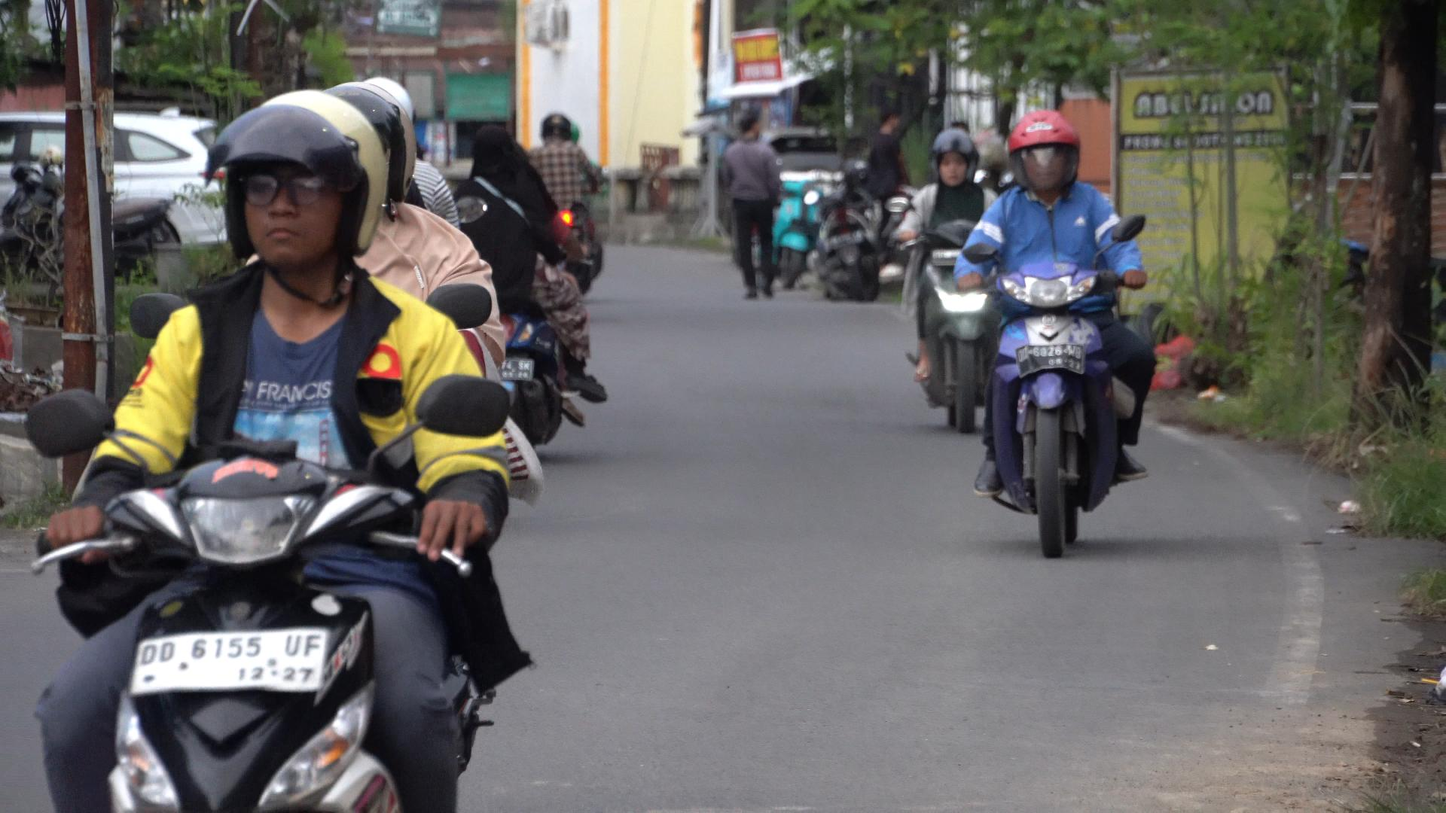number-plate: (122, 629, 327, 691), (1015, 345, 1089, 378)
